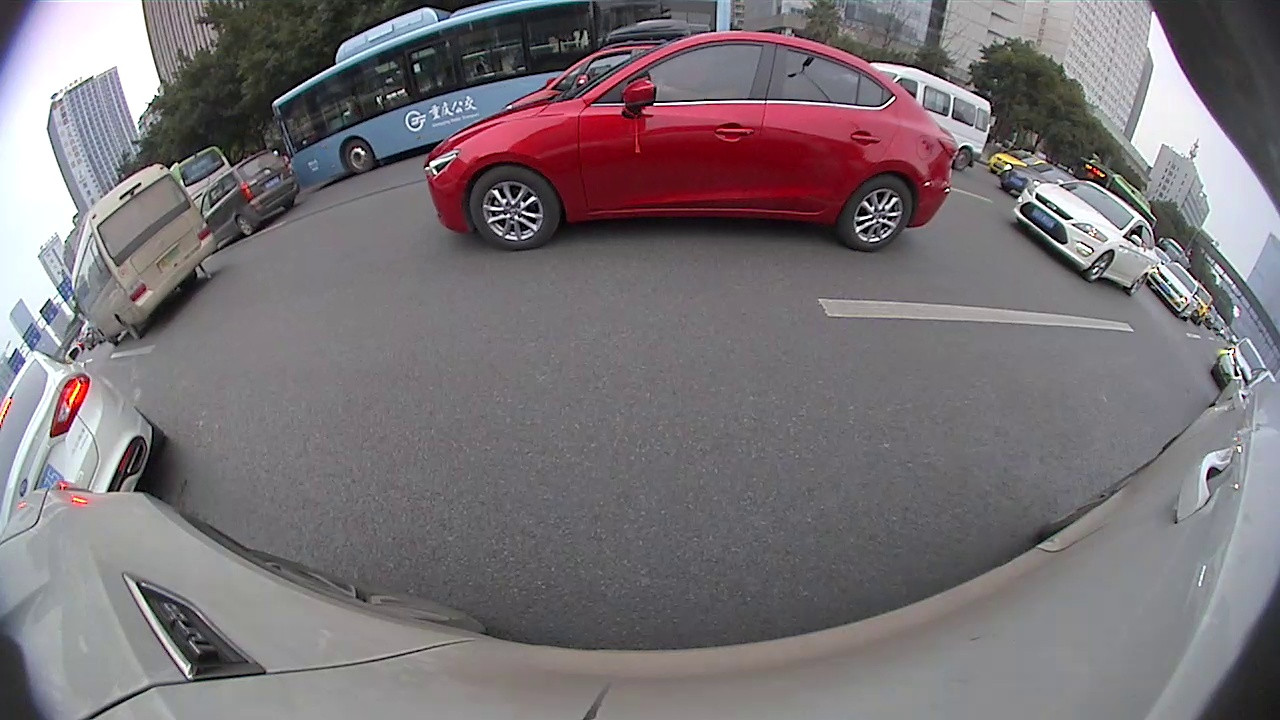bus: (274, 1, 734, 193), (73, 164, 218, 348)
car: (430, 30, 959, 251), (1, 351, 167, 518), (1014, 181, 1153, 294), (867, 64, 991, 169), (506, 47, 664, 114), (201, 151, 301, 240), (1148, 263, 1198, 320)
front: (470, 164, 561, 252), (1086, 248, 1118, 284), (342, 137, 374, 173)
rear: (839, 176, 912, 253), (234, 215, 255, 238), (954, 148, 973, 171), (1129, 274, 1147, 296)
